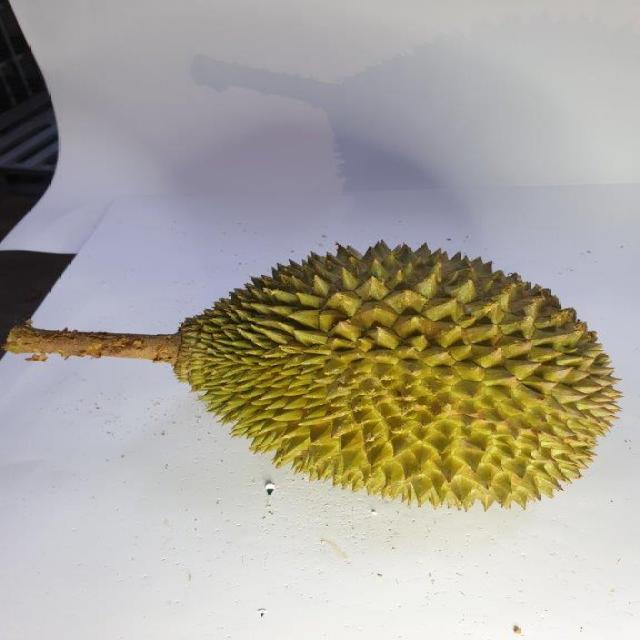immature: (173, 240, 624, 510)
